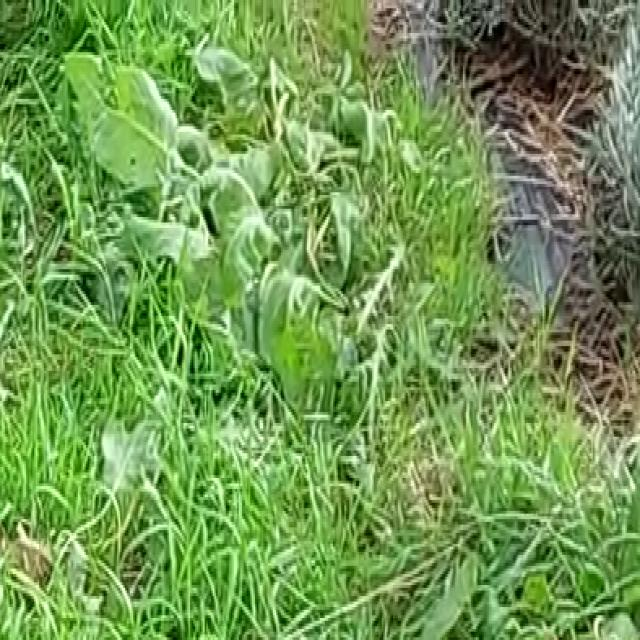organic waste: (201, 105, 460, 472), (64, 13, 318, 340), (54, 376, 200, 550)
